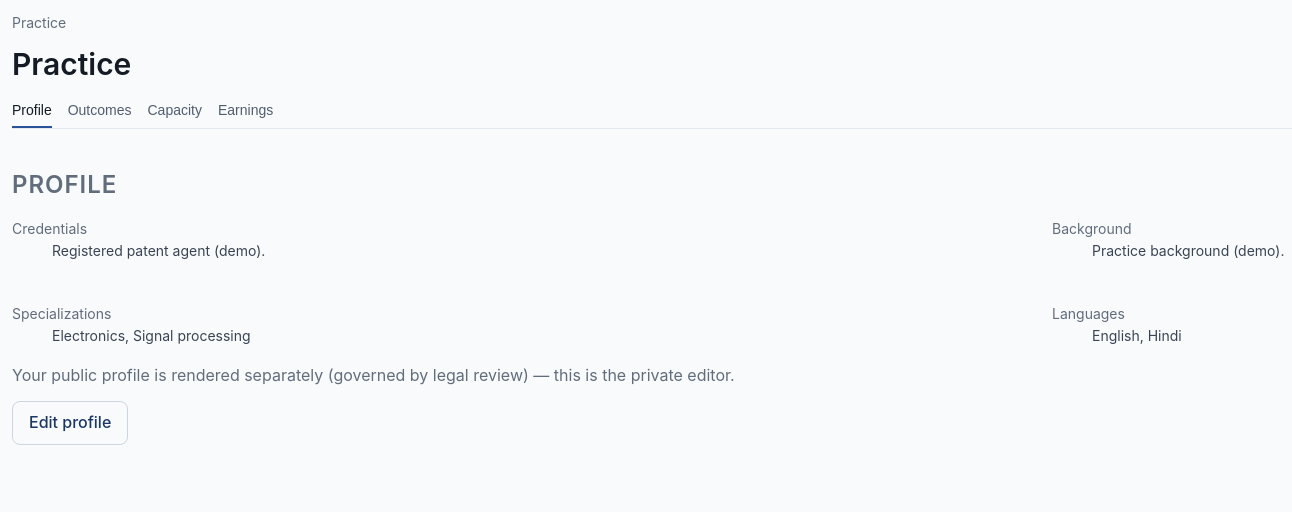
Test case: SC-A09–A12 practice › earnings render through PriceDisplay with no invented figures
Click the button "Earnings" at (246, 111), box [218,94,273,128]
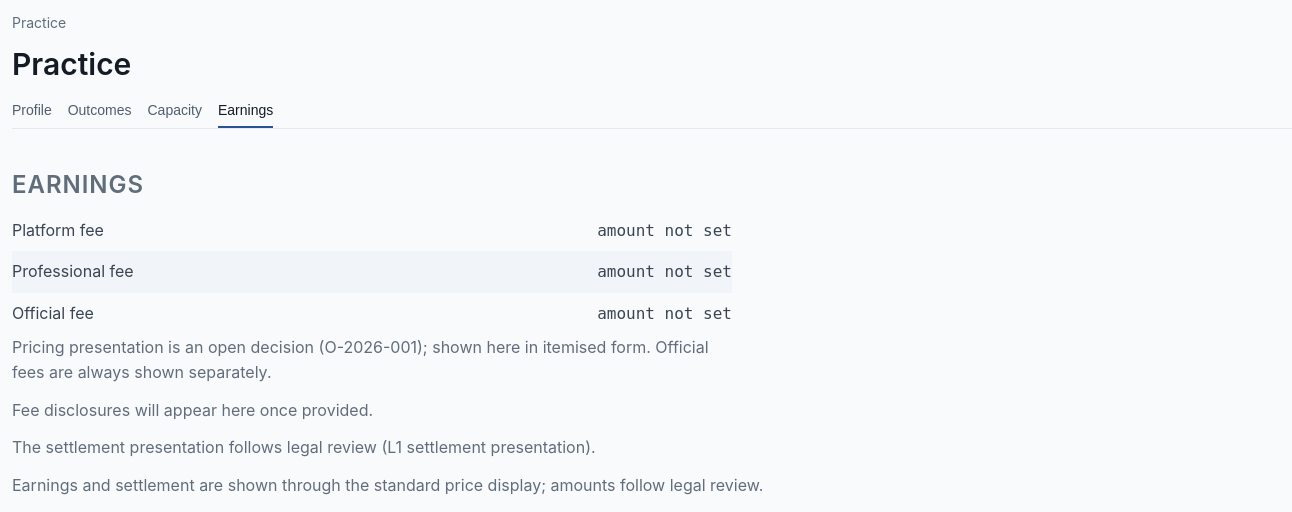
Expected: the element named "Price" is shown, [12,210,732,423]
Expected: the text "amount not set" is shown, [597,218,732,243]
